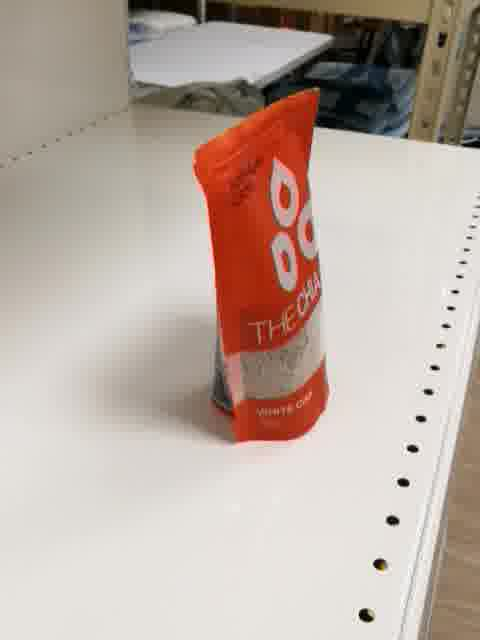whitechia: (190, 82, 335, 448)
